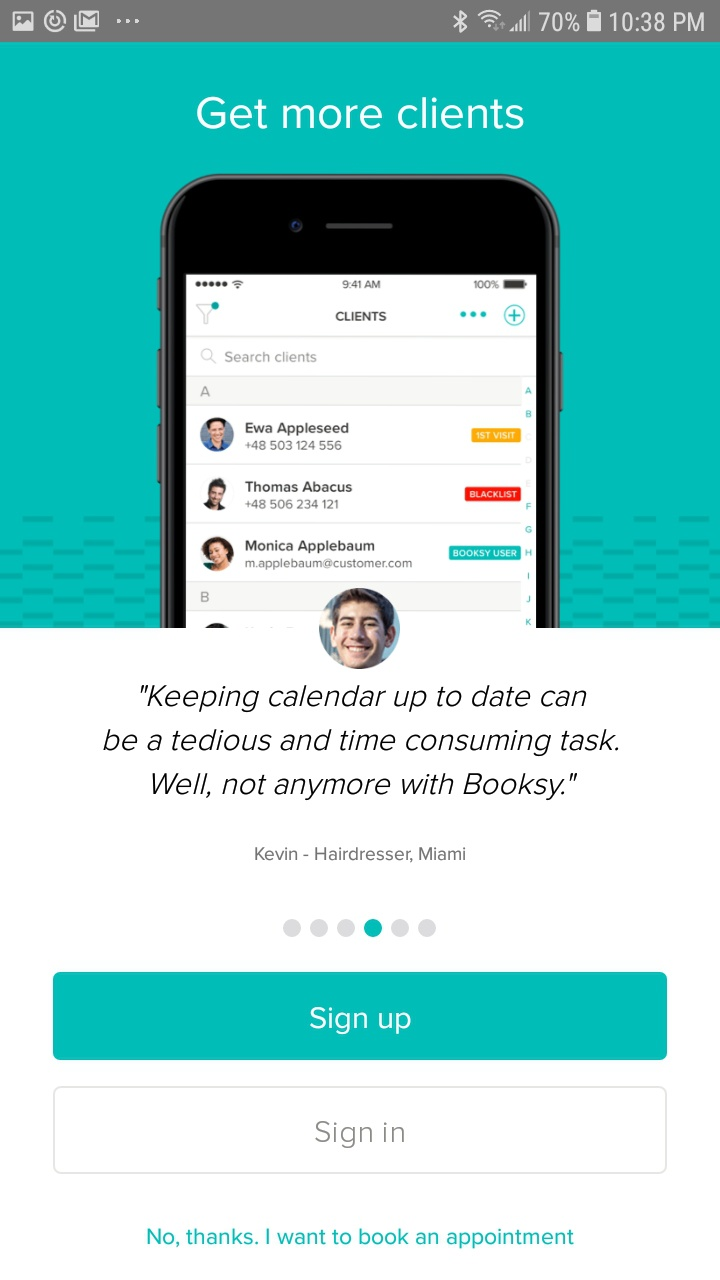Image: (157, 174, 563, 629), (319, 588, 401, 670)
PageIndicator: (283, 918, 437, 938)
Text: (103, 685, 619, 801), (196, 96, 524, 130), (148, 1227, 574, 1248), (255, 846, 466, 864)
TextButton: (53, 972, 668, 1061), (54, 1086, 667, 1174)
UpperTaskBar: (1, 1, 720, 43)
